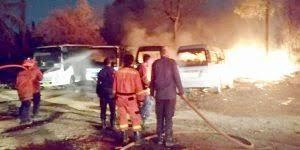fire: (177, 34, 297, 85)
